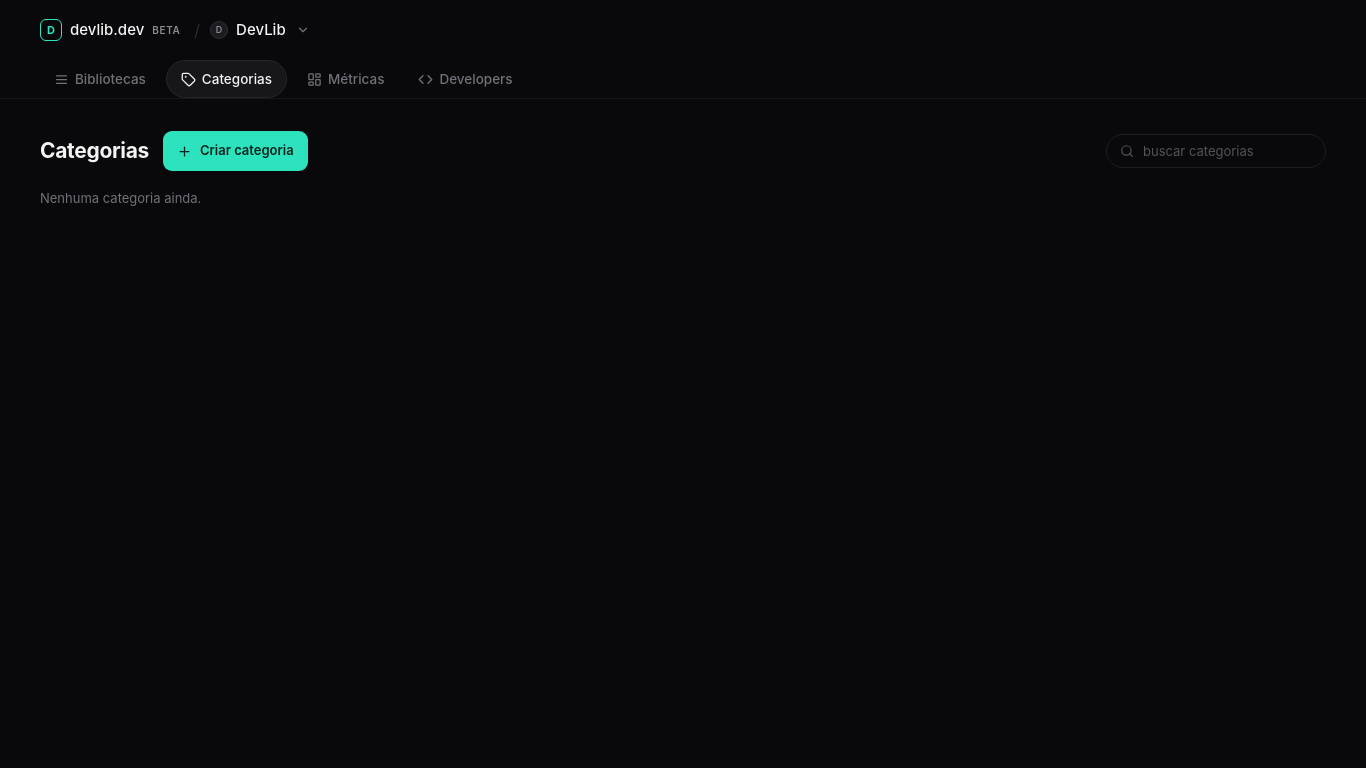
Test case: ProjectCategoriesPage › abre o drawer 'Criar categoria' ao clicar no botão
The image size is (1366, 768).
expect the text "Nenhuma categoria ainda." is shown: met, box [40,190,201,206]
Click the button "Criar categoria": point(235, 151) [163,131,308,171]
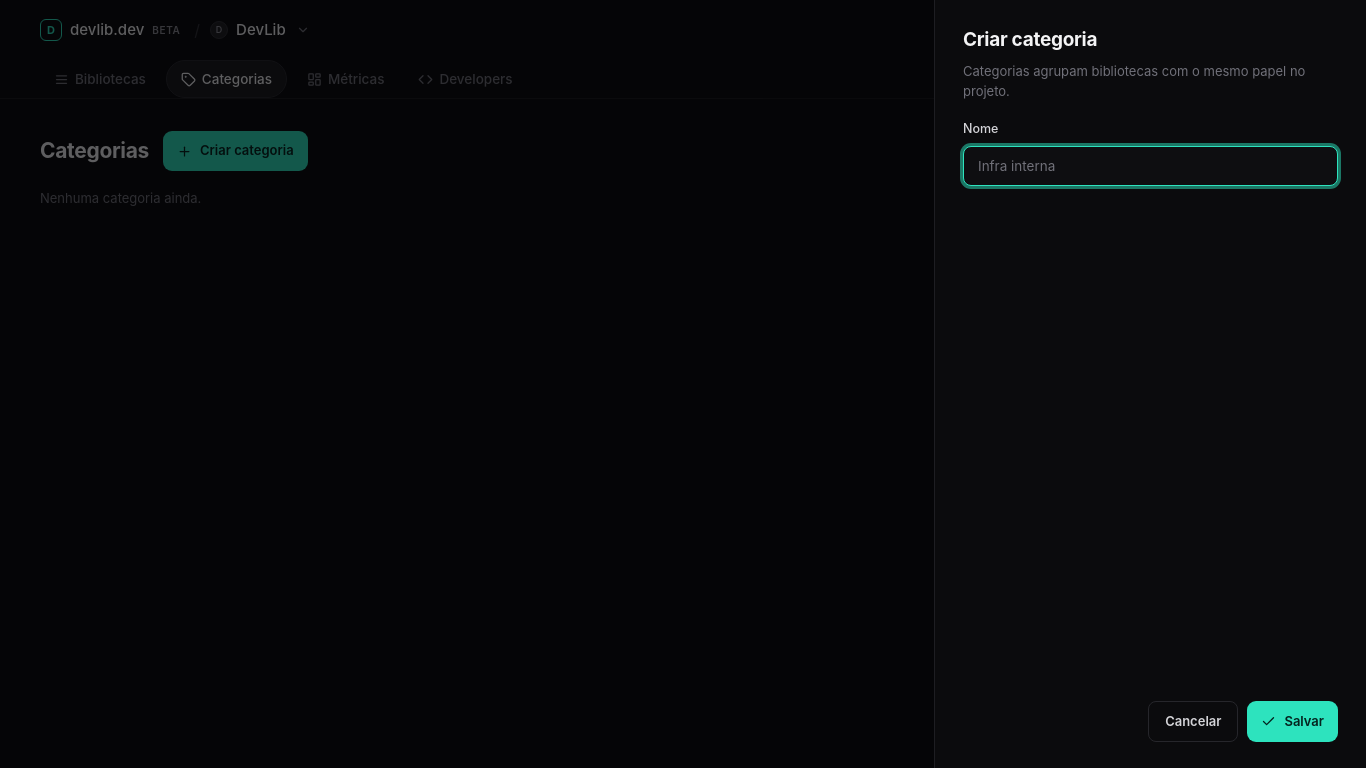
expect the field labelled "Nome" is shown: met, box [963,146,1338,186]
